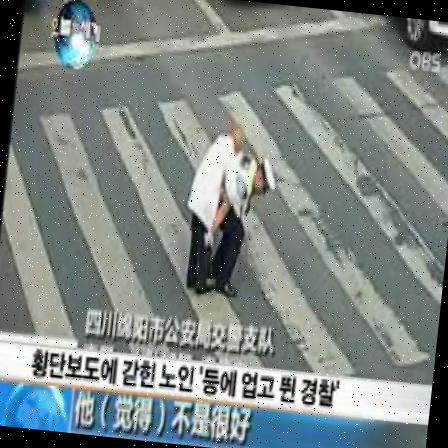silver: (181, 122, 247, 295)
